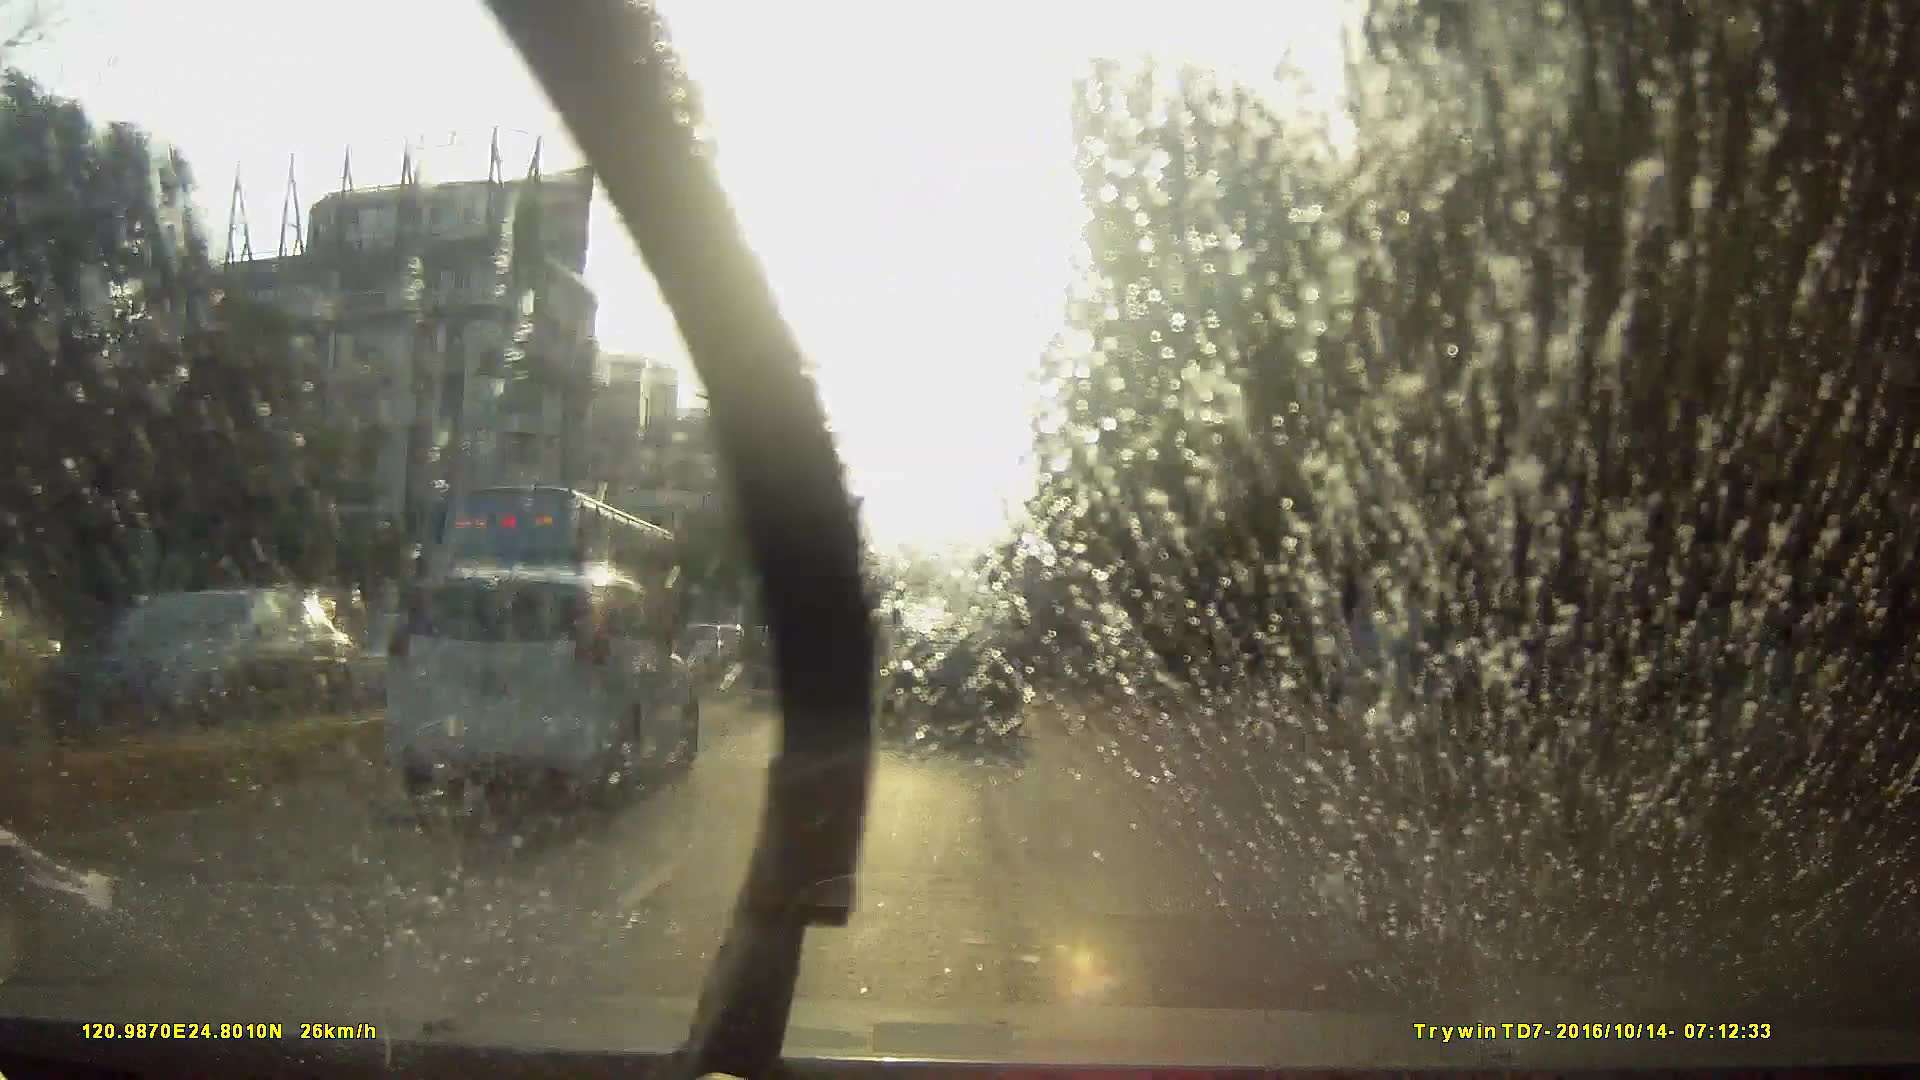vehicle: (251, 556, 684, 868), (390, 553, 702, 793), (396, 476, 712, 694), (878, 603, 1022, 752), (1000, 560, 1104, 686), (738, 616, 848, 702), (866, 638, 915, 687)
